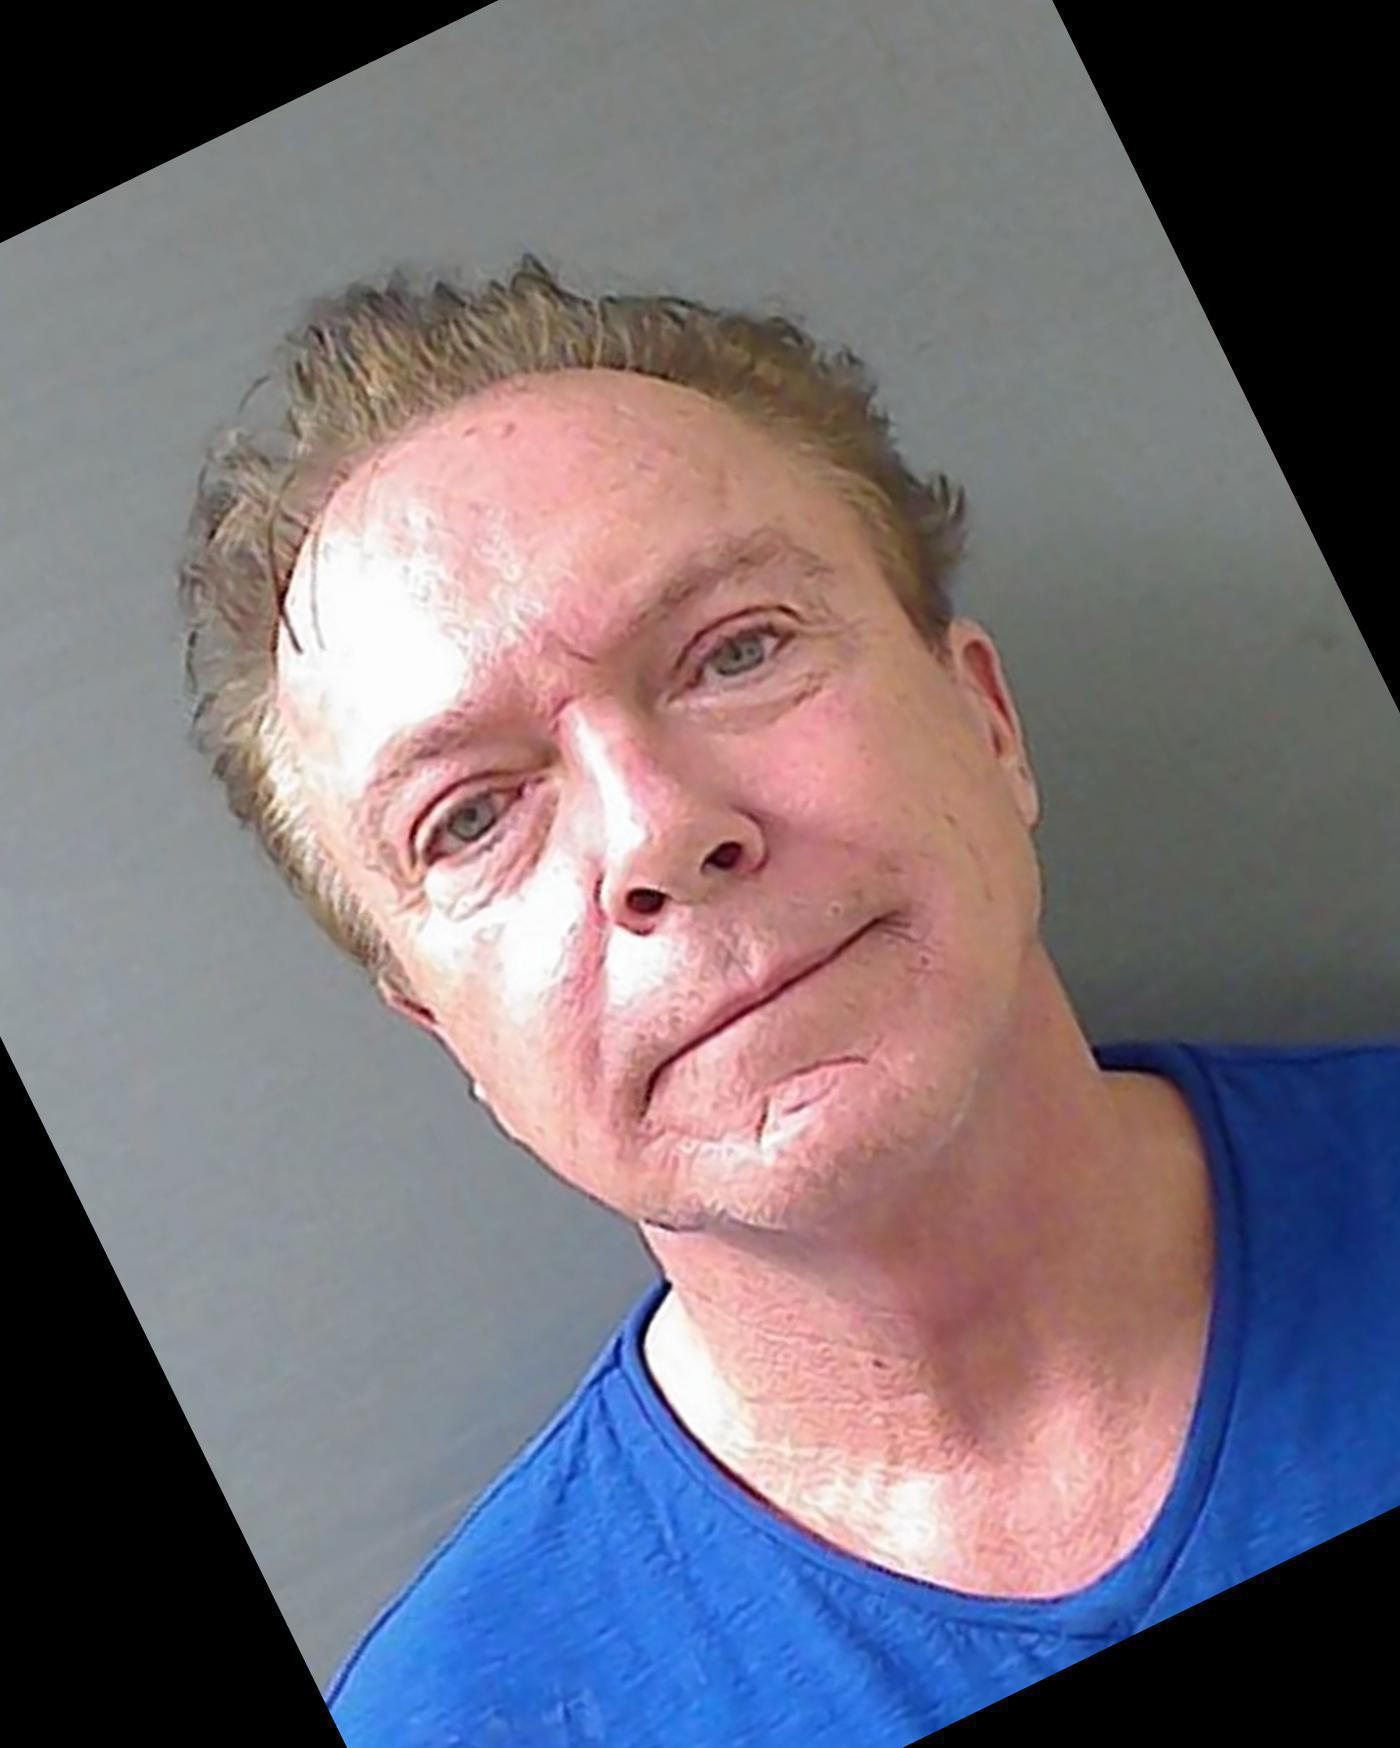Drunk: (291, 501, 986, 1172)
